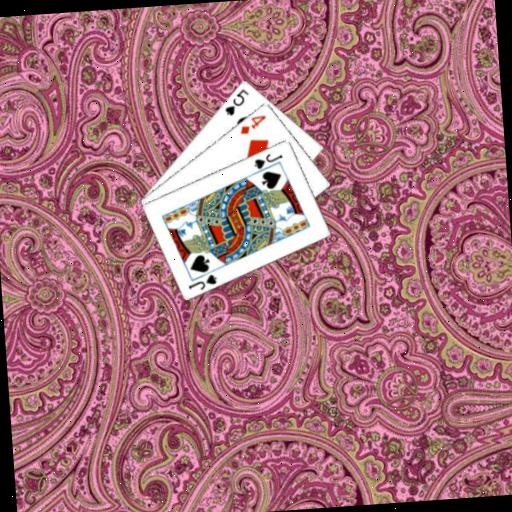4D: (236, 111, 269, 136)
5S: (220, 86, 252, 118)
JS: (250, 150, 285, 171), (184, 271, 219, 292)
